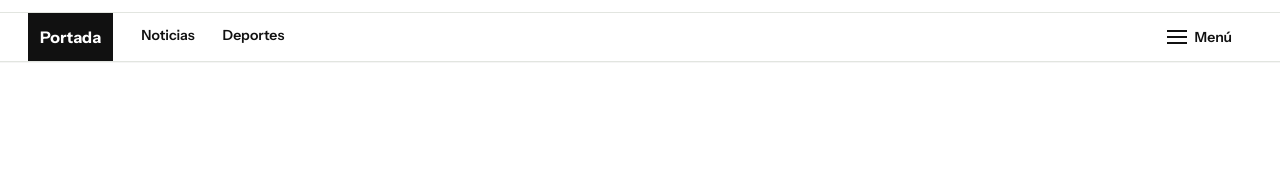
<NavBar /> › toggles the drawer with a11y state and closes on Escape
Click the button "Menú": (1199, 37) [1159,13,1240,61]
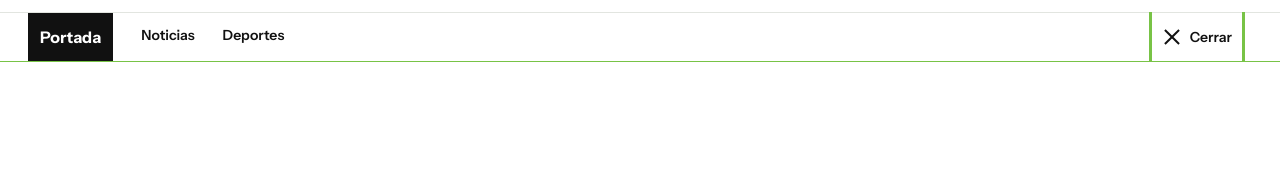
Expected: the button "Cerrar" is expanded, [1154,13,1240,61]
Press Escape
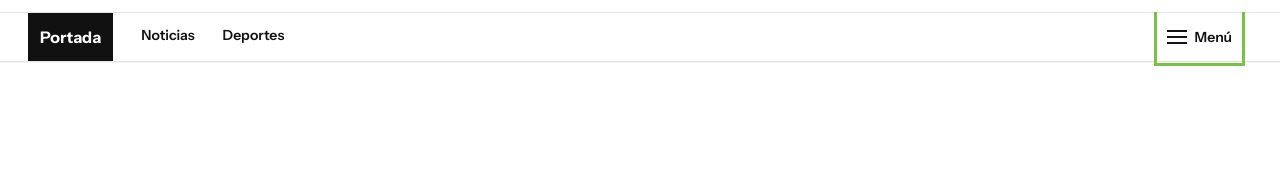
Expected: the button "Menú" is collapsed, [1159,13,1240,61]
